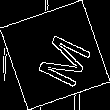M_NW: (22, 23, 88, 87)
